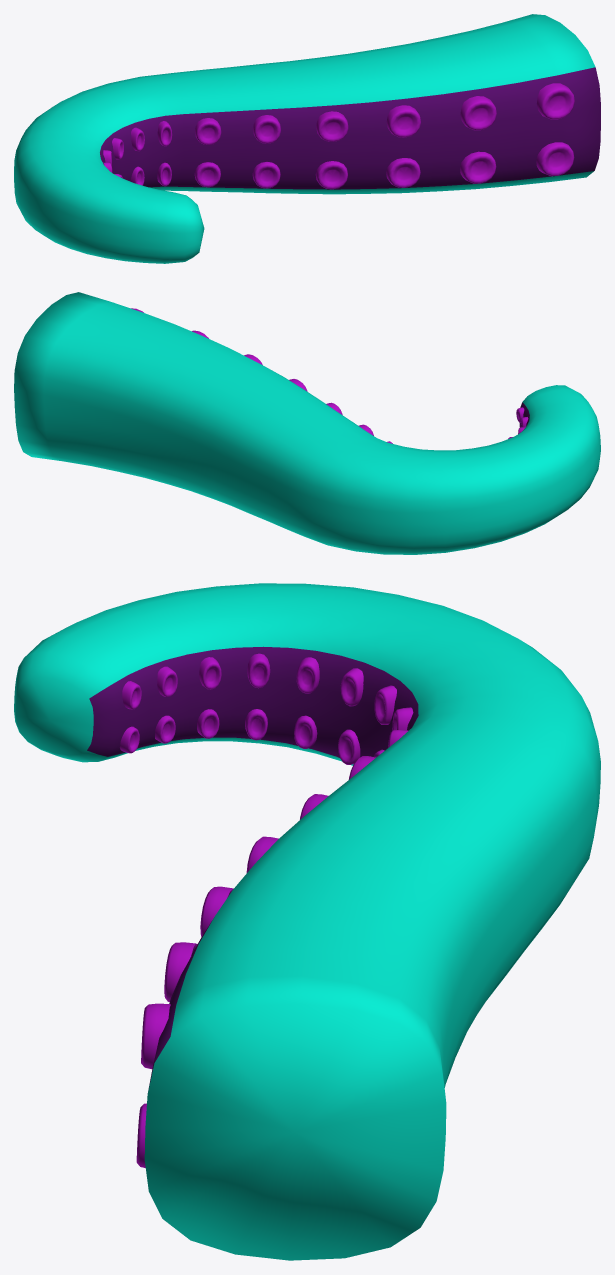
File: TentaculoDeKraken.fbx
The picture shows the model from 3 angles, top to bottom: view 1: azimuth 30°, elevation 25°; view 2: azimuth 150°, elevation 25°; view 3: azimuth 270°, elevation 25°; orthographic projection. The views are drawn at different scales.
Parts seen in each view (by area): view 1: Tentaculo Kraken; view 2: Tentaculo Kraken; view 3: Tentaculo Kraken.
Boxes of the visible parts, x1,y1,x2,y2 form: Tentaculo Kraken: (14,14,600,263); Tentaculo Kraken: (14,292,600,554); Tentaculo Kraken: (14,583,600,1260).
Size of the model in its own units: 205 by 52.88 by 108.
